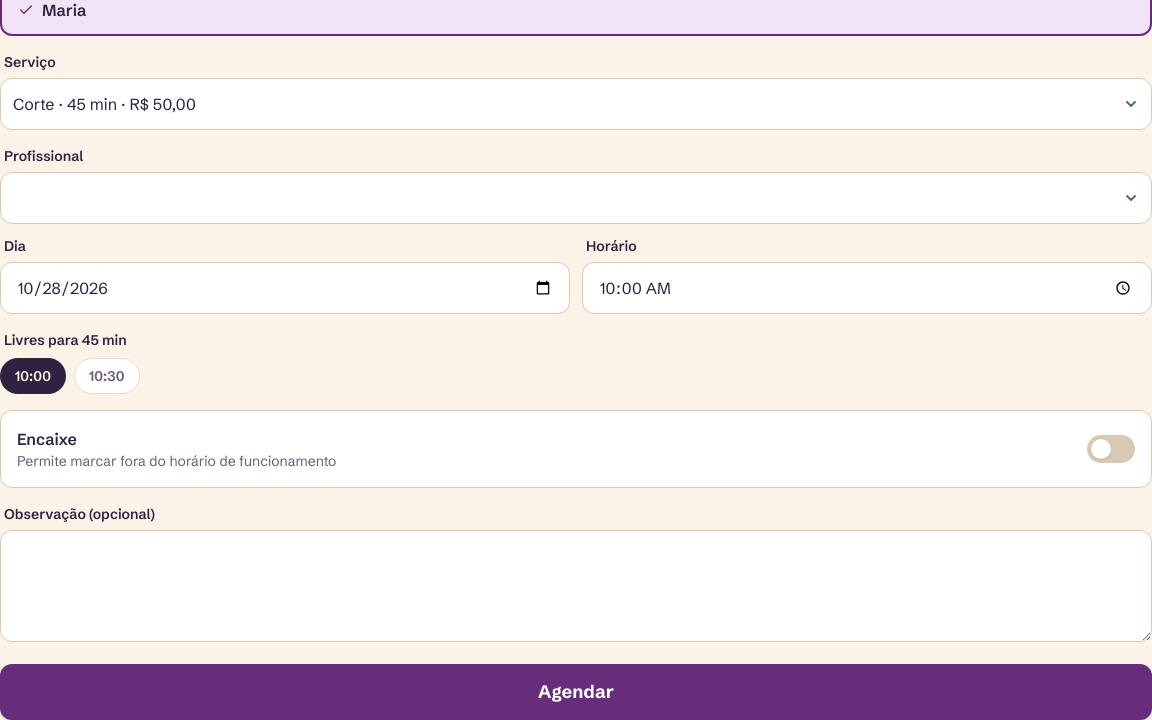
Test: NewAppointmentSheet › sem profissional disponível no dia, pede o profissional
This screenshot has width=1152, height=720.
(page scrolled)
Click the button "Agendar".
click(576, 692)  # box [0,664,1151,719]
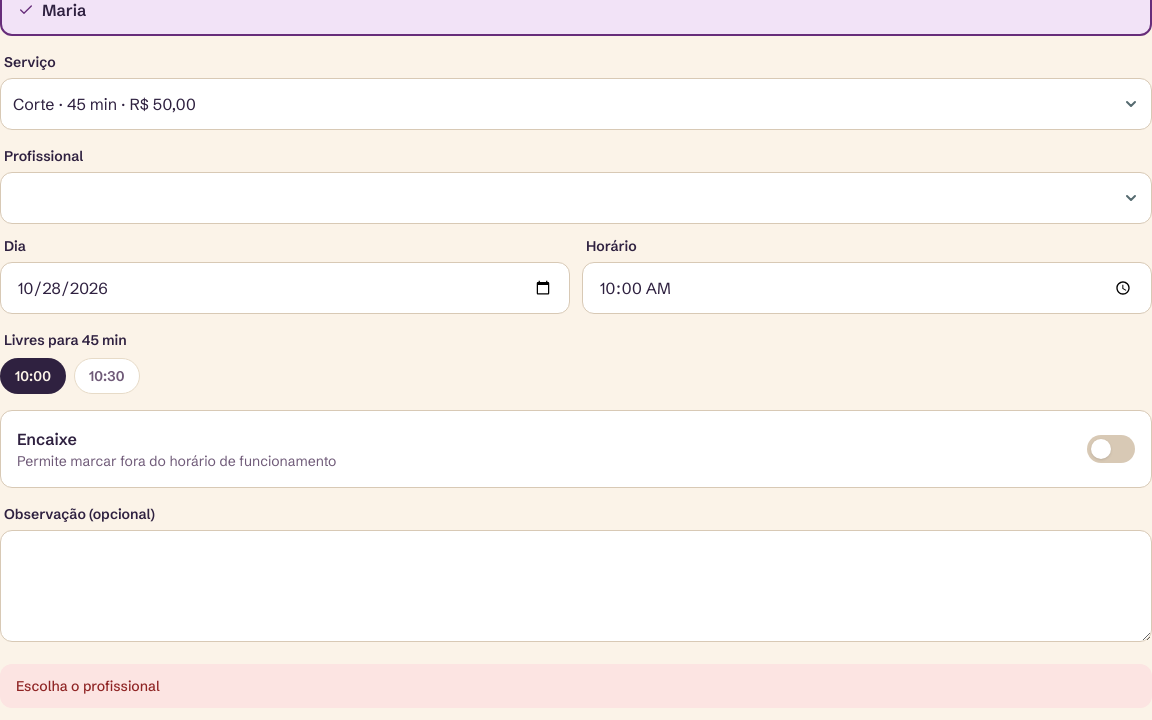
Expected: the message reads "Escolha o profissional", [16,677,160,695]
